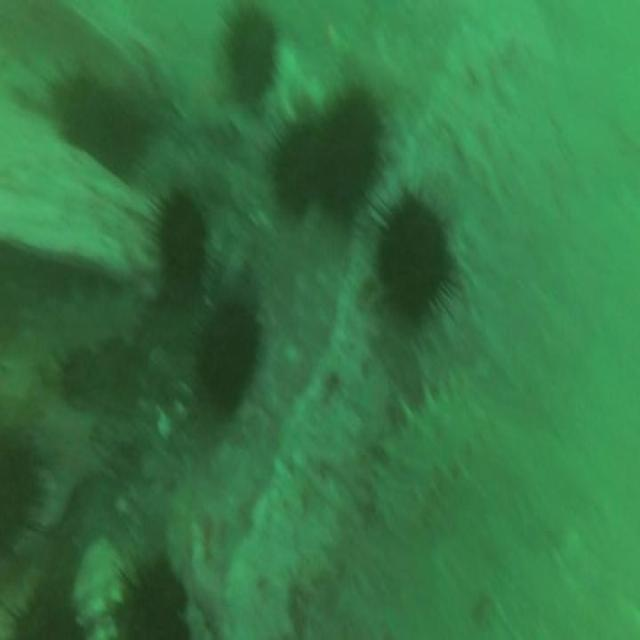echinus: (378, 201, 448, 311), (57, 79, 135, 175), (316, 91, 381, 200), (199, 305, 258, 406), (121, 567, 184, 640), (271, 120, 319, 215), (0, 439, 39, 553), (157, 196, 203, 292), (228, 11, 276, 96), (13, 584, 63, 640)
holothurian: (374, 371, 476, 525)
